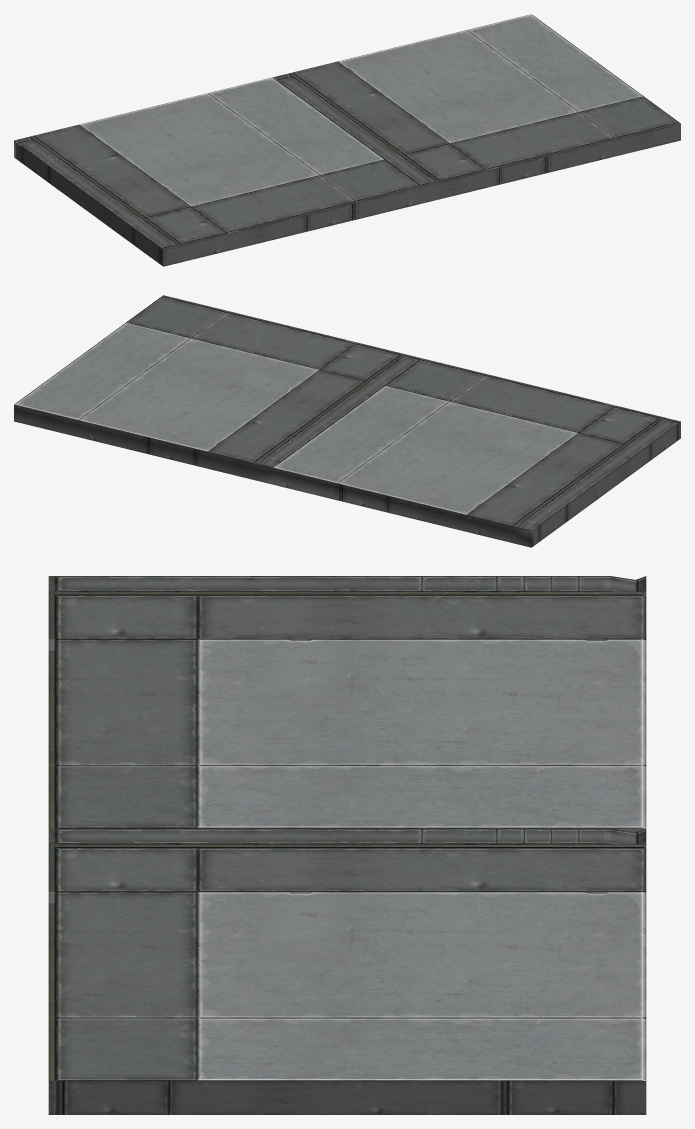
Rendered from Neon_Floor_Lrg_8x4_02.FBX.
3 renders of one model, top to bottom at view 1: azimuth 30°, elevation 25°; view 2: azimuth 150°, elevation 25°; view 3: azimuth 270°, elevation 25°, orthographic. The views are drawn at different scales.
Visible parts, largest first — view 1: Neon_Floor_Lrg_8x4_02; view 2: Neon_Floor_Lrg_8x4_02; view 3: Neon_Floor_Lrg_8x4_02.
Part boxes in pixels (x1,y1,x2,y2): Neon_Floor_Lrg_8x4_02: (14, 14, 680, 266); Neon_Floor_Lrg_8x4_02: (14, 295, 680, 547); Neon_Floor_Lrg_8x4_02: (48, 576, 646, 1114).
Size of the model in its own units: 8 by 0.2499 by 4.
